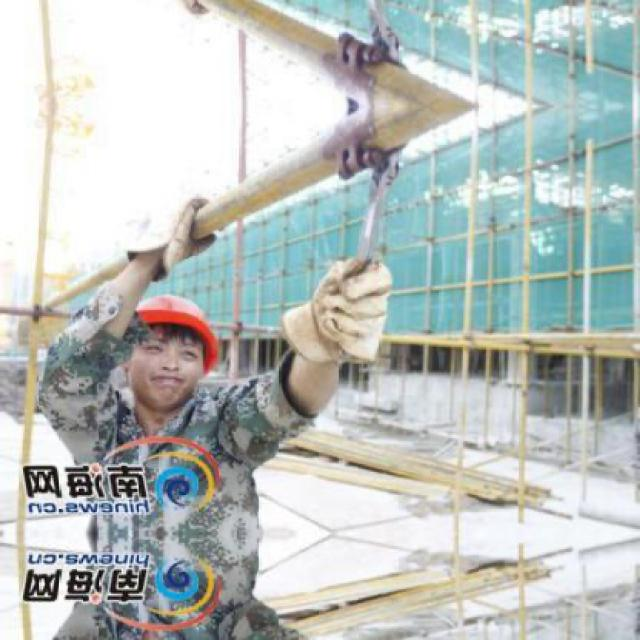2: (56, 262, 370, 532), (54, 535, 369, 639)
helmet: (115, 278, 231, 410)
